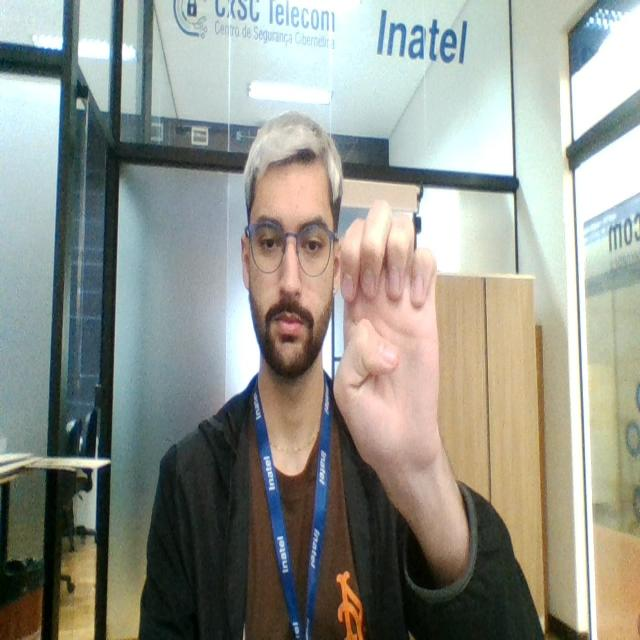E: (332, 210, 444, 483)
